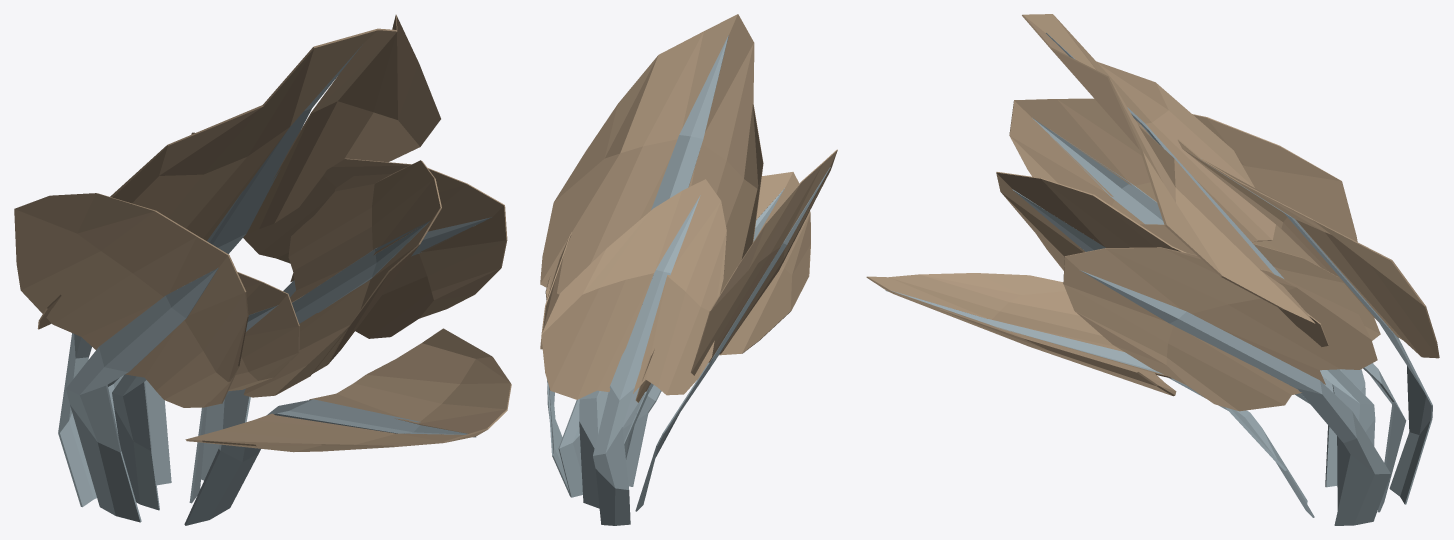
Rendered from Chard_Dry_4.fbx.
The picture shows the model from 3 angles, left to right: view 1: azimuth 30°, elevation 25°; view 2: azimuth 150°, elevation 25°; view 3: azimuth 270°, elevation 25°; orthographic projection. The views are drawn at different scales.
Visible parts, largest first — view 1: 4_Dry_Chard; view 2: 4_Dry_Chard; view 3: 4_Dry_Chard.
Part boxes in pixels (bbox=[...]): 4_Dry_Chard: bbox=[14, 14, 511, 525]; 4_Dry_Chard: bbox=[540, 14, 837, 525]; 4_Dry_Chard: bbox=[866, 14, 1439, 525].
Bounding box in the file's own units: 12.12 × 22.17 × 23.07.
